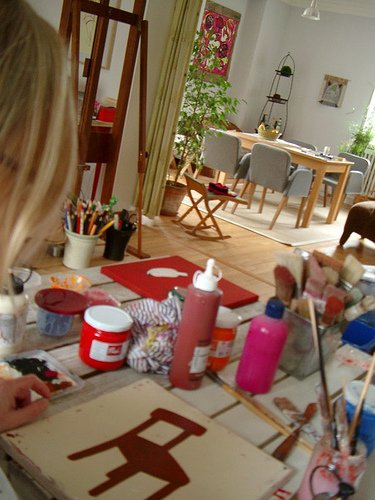bottle: (170, 262, 223, 390), (236, 298, 289, 394)
chair: (175, 134, 245, 238), (243, 146, 315, 230), (243, 146, 294, 226), (324, 156, 372, 224), (268, 170, 314, 230), (199, 132, 248, 182), (340, 202, 374, 252), (348, 160, 375, 206)
cup: (236, 312, 289, 395), (79, 308, 134, 373), (2, 294, 16, 348)
dining table: (2, 246, 328, 494), (236, 134, 352, 222)
person: (1, 376, 53, 433)
potted plant: (62, 196, 121, 268), (103, 210, 137, 260)
